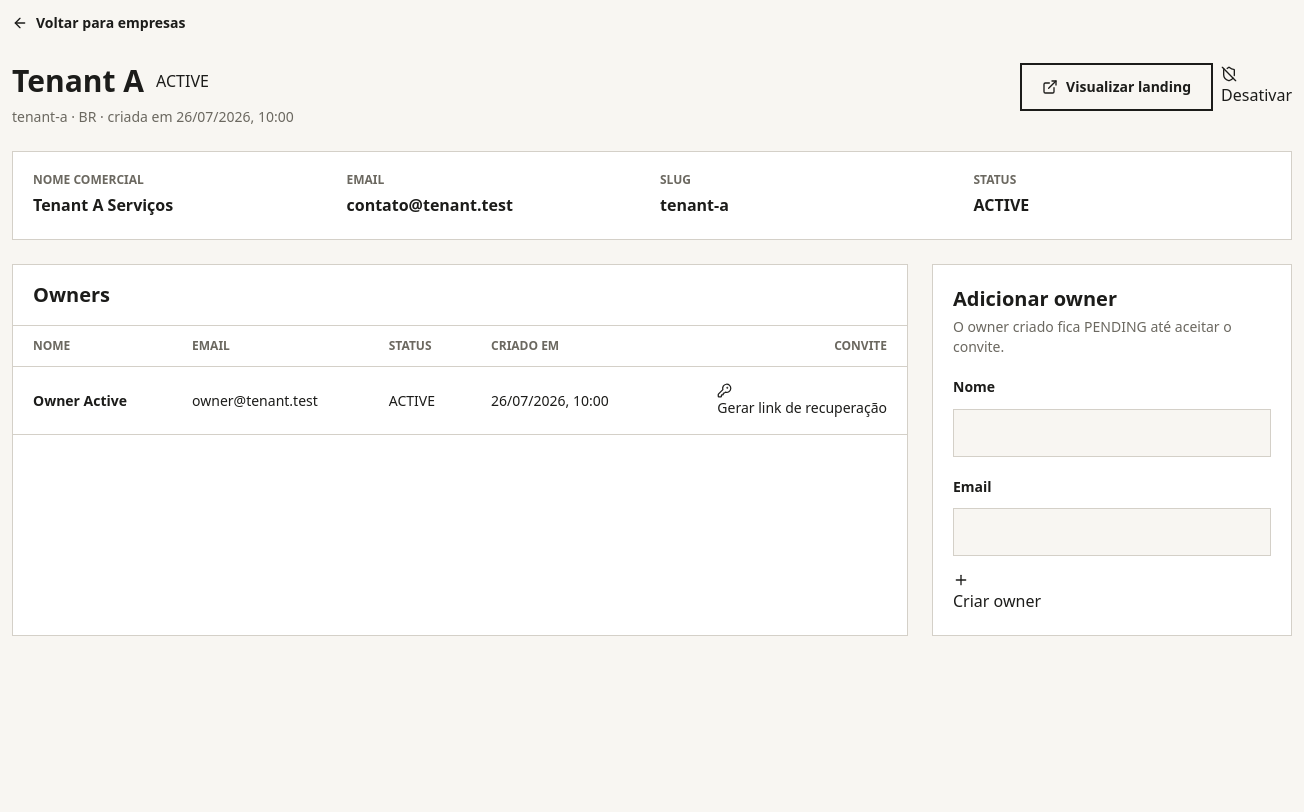
it: CompanyDetailPage › handles password reset conflicts for owners that are no longer eligible
The width and height of the screenshot is (1304, 812).
Click the button "Gerar link de recuperação" at (802, 401), box [717,383,887,418]
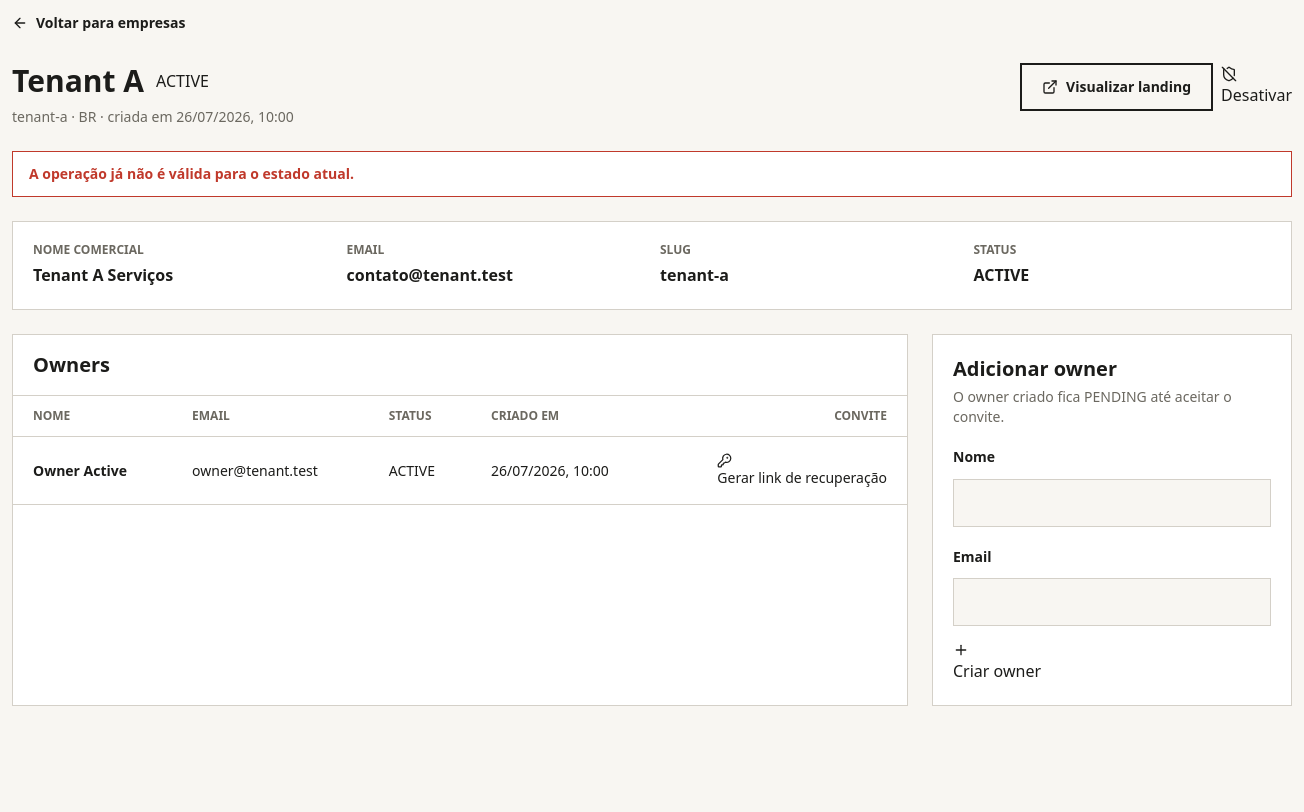
Result: the text "A operação já não é válida para o estado atual." is shown at [12,151,1292,197]
